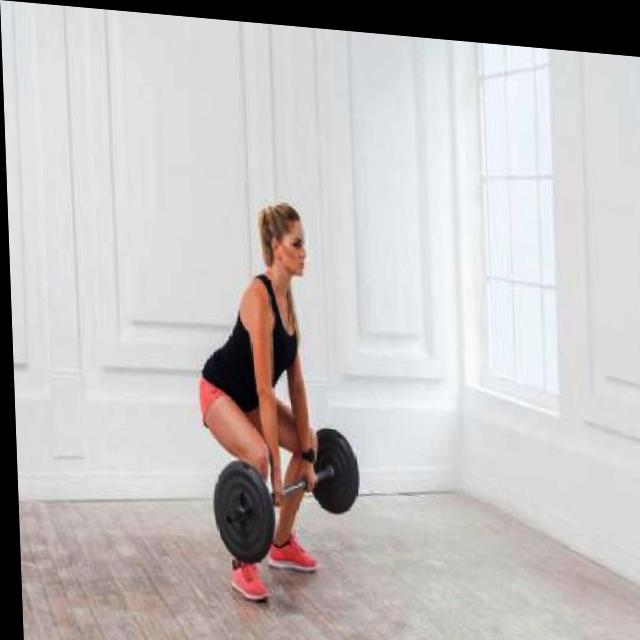barbell: (205, 449, 277, 566)
